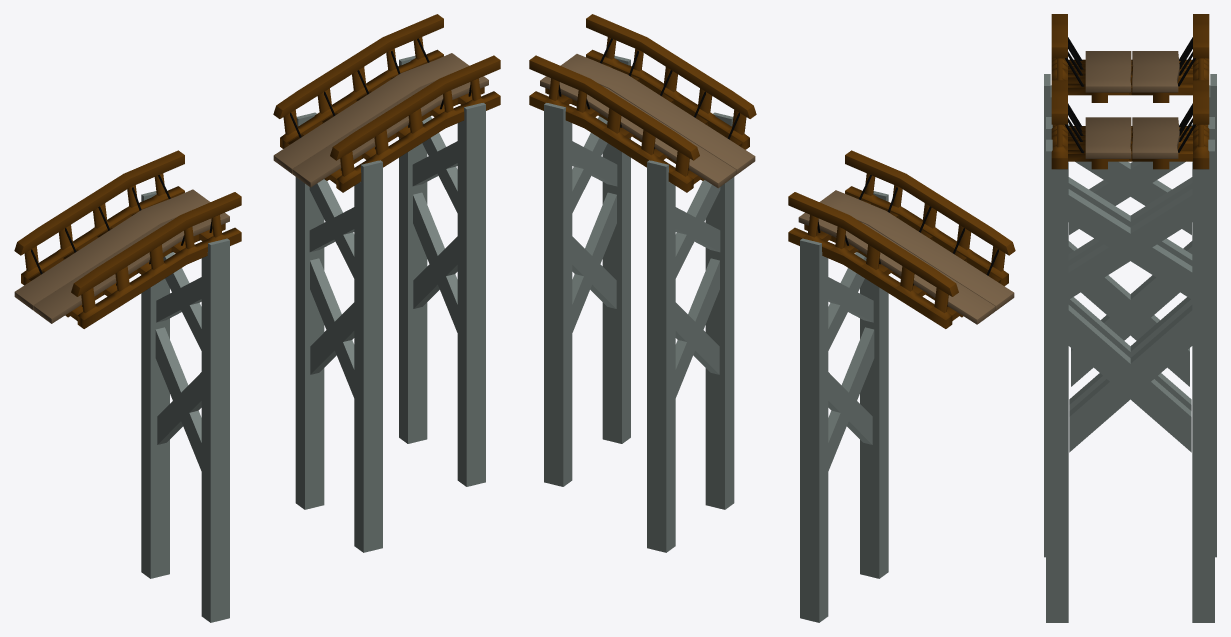
The model's file is jembatan2.fbx.
The picture shows the model from 3 angles, left to right: view 1: azimuth 30°, elevation 25°; view 2: azimuth 150°, elevation 25°; view 3: azimuth 270°, elevation 25°; orthographic projection. The views are drawn at different scales.
Parts seen in each view (by area): view 1: Cube.003, Cube.004, Cube, Cube.001, Cube.005, Cube.002; view 2: Cube.003, Cube.004, Cube, Cube.001, Cube.005, Cube.002; view 3: Cube.003, Cube.004, Cube.001, Cube.002, Cube.005, Cube, BezierCurve, BezierCurve.001.
Part boxes in pixels (box(x1,y1,x2,y2)): Cube.003: box(295, 56, 485, 552); Cube.004: box(141, 191, 229, 622); Cube: box(14, 150, 241, 328); Cube.001: box(273, 14, 500, 192); Cube.005: box(14, 189, 229, 323); Cube.002: box(273, 53, 488, 187); Cube.003: box(544, 56, 734, 552); Cube.004: box(800, 191, 888, 622); Cube: box(788, 150, 1015, 328); Cube.001: box(529, 14, 756, 192); Cube.005: box(798, 190, 1014, 324); Cube.002: box(540, 54, 755, 188); Cube.003: box(1046, 117, 1214, 622); Cube.004: box(1044, 74, 1216, 557); Cube.001: box(1051, 80, 1209, 169); Cube.002: box(1085, 117, 1179, 158); Cube.005: box(1085, 51, 1179, 92); Cube: box(1051, 14, 1209, 102); BezierCurve: box(1065, 37, 1195, 86); BezierCurve.001: box(1065, 103, 1195, 153).
Size of the model in its own units: 1403 by 1499 by 385.
